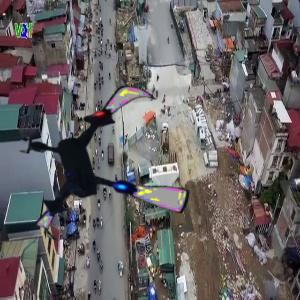drone: (16, 72, 197, 253)
